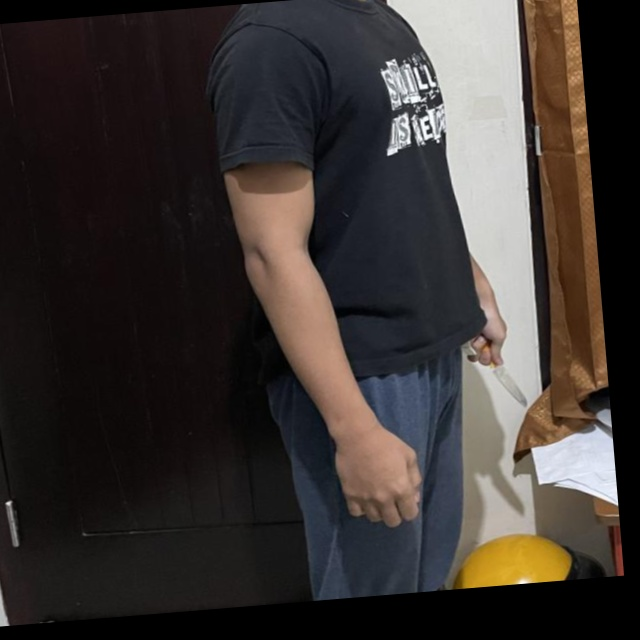Sharp-Object: (476, 332, 528, 413)
